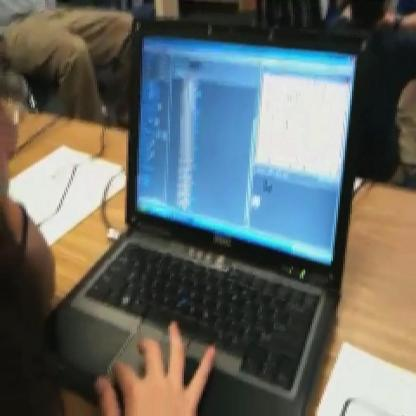board: (45, 13, 360, 414)
